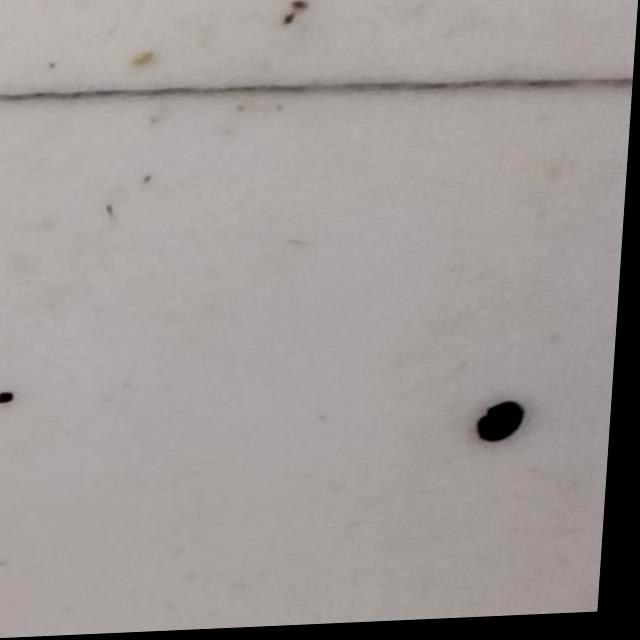varroa: (479, 404, 537, 451)
